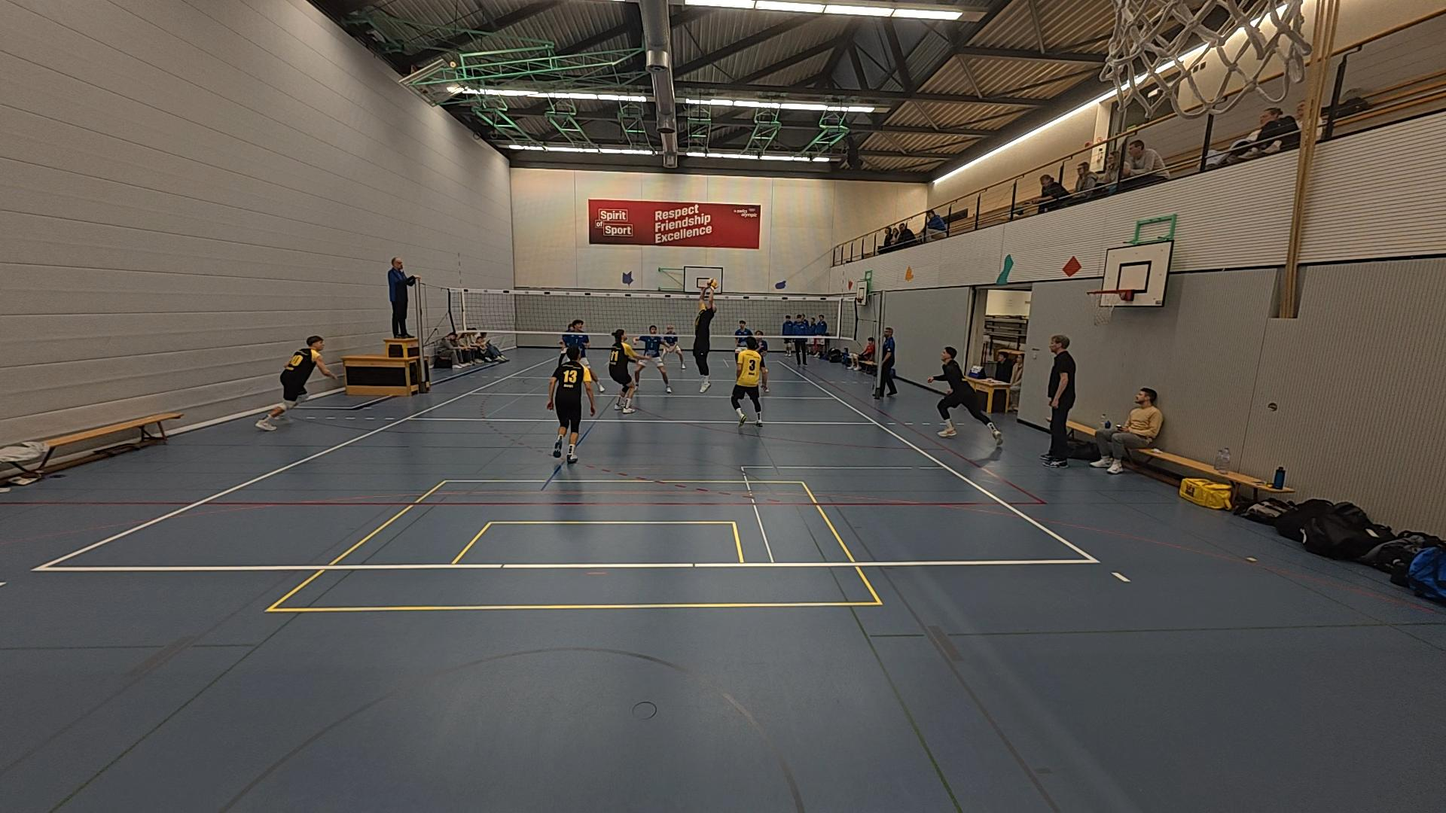Player: (257, 335, 336, 431), (929, 346, 1003, 444), (545, 346, 596, 463), (731, 337, 768, 427), (607, 328, 642, 413), (637, 323, 676, 393), (657, 321, 687, 369), (550, 320, 576, 375), (733, 319, 755, 382), (749, 330, 770, 392), (558, 318, 587, 361)
Set: (687, 279, 720, 394)
ball: (700, 276, 715, 290)
